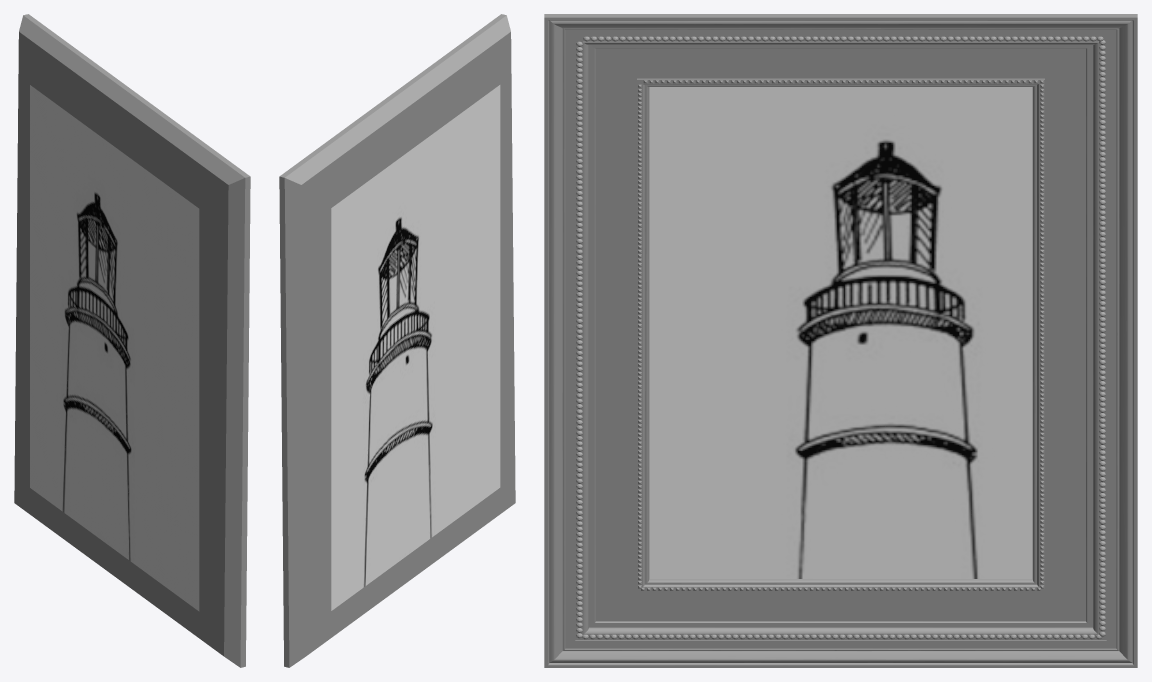
File: pictureframe_lighthouse_vertical.fbx
The picture shows the model from 3 angles, left to right: view 1: azimuth 30°, elevation 25°; view 2: azimuth 150°, elevation 25°; view 3: azimuth 270°, elevation 25°; orthographic projection. The views are drawn at different scales.
Parts seen in each view (by area): view 1: pPlane3, vertical_frame2; view 2: pPlane3, vertical_frame2; view 3: vertical_frame2, pPlane3.
Part boxes in pixels (x1=…): pPlane3: x1=30, y1=85, x2=199, y2=611; vertical_frame2: x1=14, y1=14, x2=250, y2=667; pPlane3: x1=331, y1=85, x2=500, y2=610; vertical_frame2: x1=279, y1=14, x2=515, y2=667; vertical_frame2: x1=544, y1=14, x2=1137, y2=667; pPlane3: x1=649, y1=87, x2=1032, y2=578.
Bounding box in the file's own units: 0.6783 × 12.58 × 10.36.
